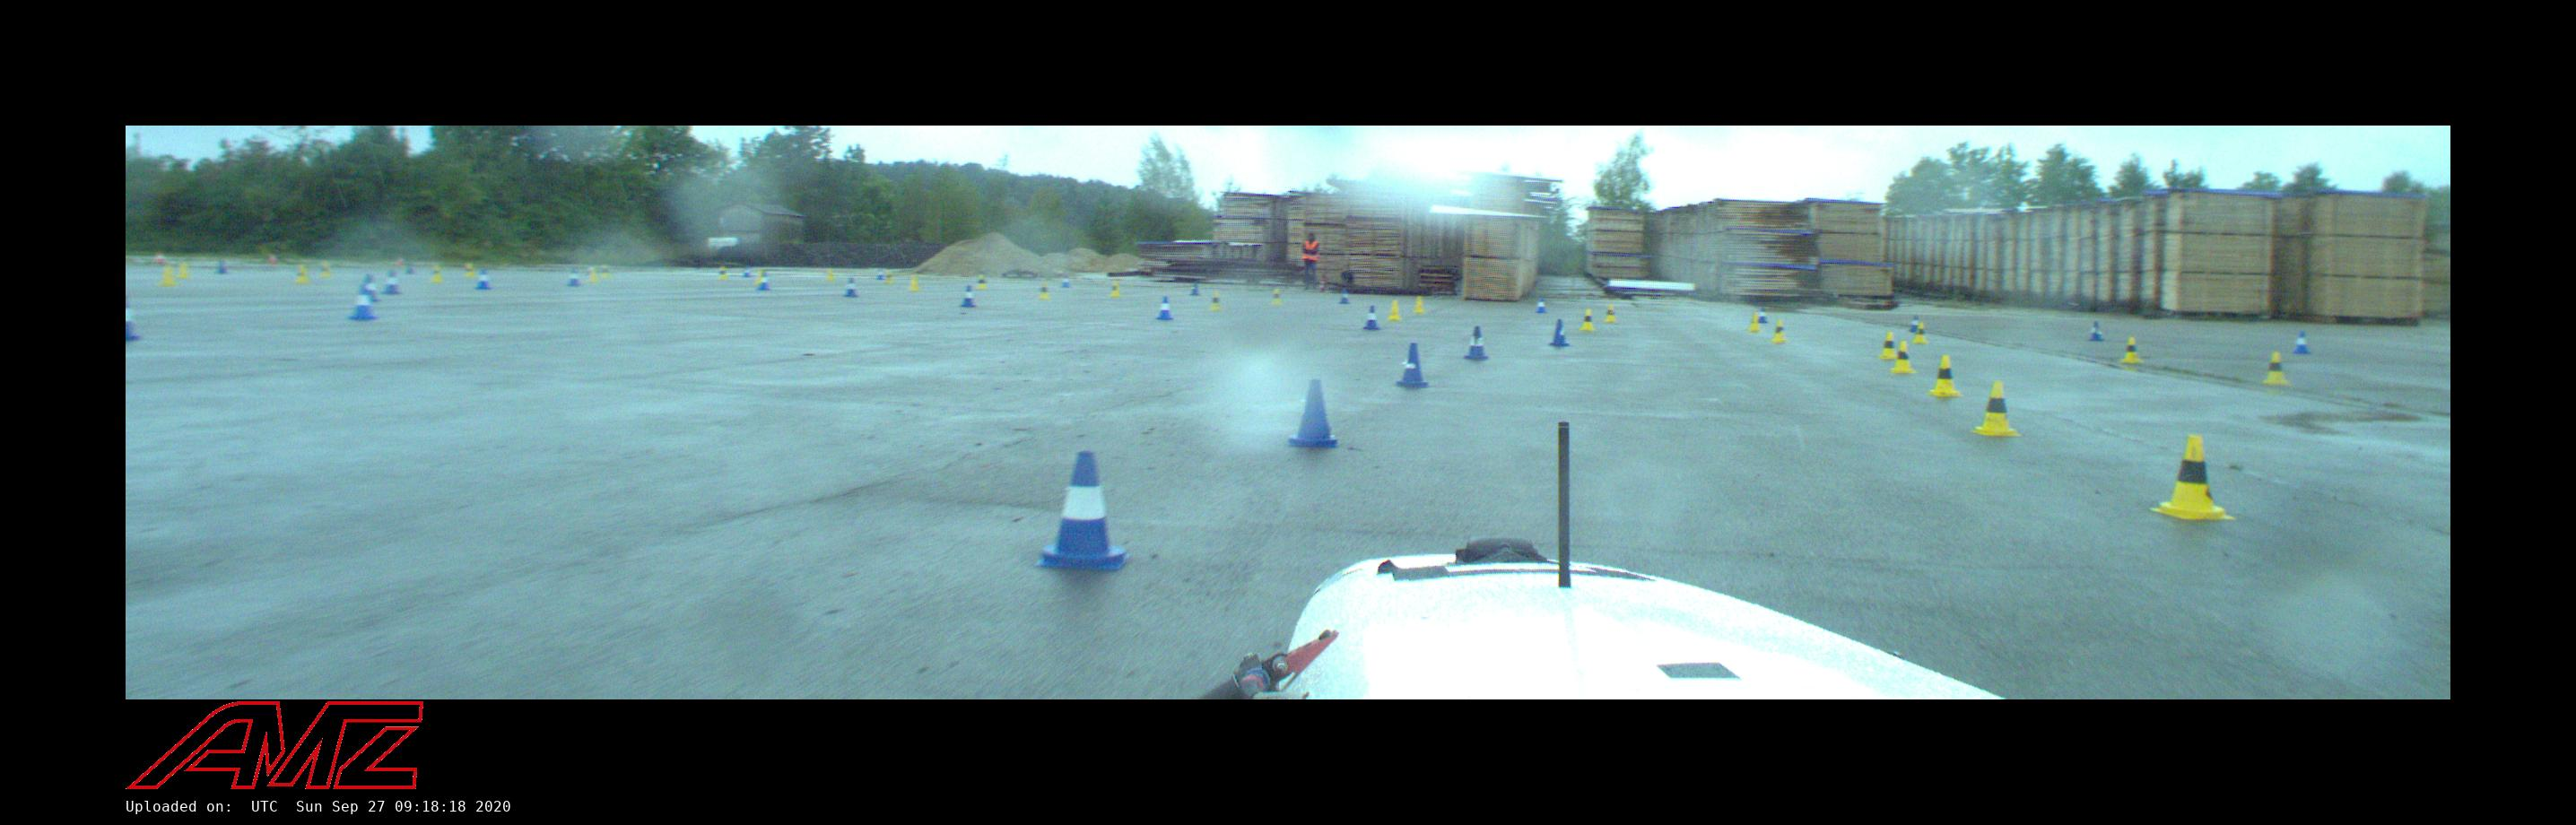blue_cone: (1037, 452, 1132, 572), (1288, 378, 1339, 447), (1396, 342, 1429, 388), (350, 288, 376, 320), (1465, 327, 1488, 360), (1549, 319, 1567, 347), (1364, 306, 1380, 329), (384, 271, 401, 294), (1157, 297, 1173, 319), (2293, 332, 2310, 353), (959, 286, 976, 307), (366, 276, 380, 302), (2090, 320, 2103, 340), (844, 278, 858, 297), (476, 271, 490, 289), (757, 273, 769, 291), (568, 270, 580, 286), (1339, 289, 1350, 304), (1536, 297, 1546, 312), (1909, 316, 1917, 332), (1760, 307, 1768, 322), (1061, 276, 1071, 288)
yellow_cone: (2149, 436, 2234, 519), (1971, 381, 2021, 436), (1929, 355, 1960, 396), (2262, 353, 2287, 383), (1891, 342, 1914, 373), (2121, 339, 2141, 362), (1879, 332, 1896, 358), (1769, 320, 1787, 342), (1580, 309, 1595, 330), (1912, 324, 1927, 342), (1746, 312, 1761, 330), (1388, 301, 1401, 320), (1038, 283, 1050, 299), (1211, 293, 1222, 309), (1109, 283, 1120, 297), (1413, 297, 1424, 312), (909, 276, 920, 291), (1605, 306, 1615, 322), (1272, 289, 1281, 304), (978, 276, 986, 289)
